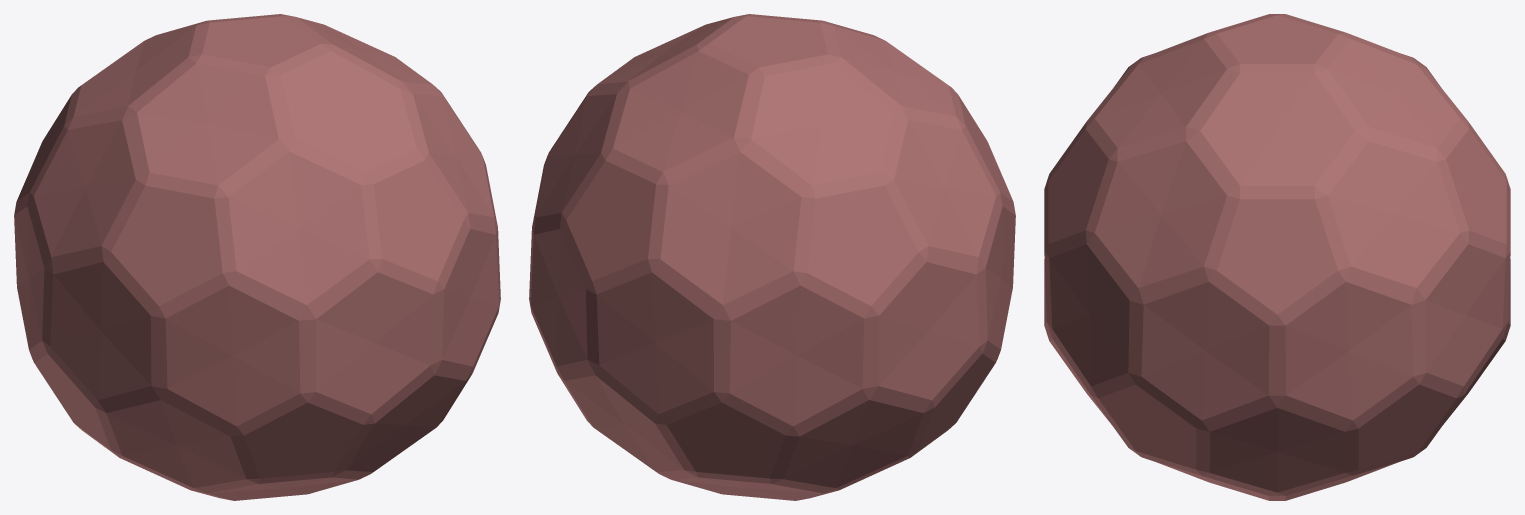
File: Crystal_old.fbx
3 views of the same model, side by side, from view 1: azimuth 30°, elevation 25°; view 2: azimuth 150°, elevation 25°; view 3: azimuth 270°, elevation 25° (orthographic).
Visible parts, largest first — view 1: Out; view 2: Out; view 3: Out.
Boxes of the visible parts, x1,y1,x2,y2 form: Out: (14, 14, 500, 500); Out: (529, 14, 1015, 500); Out: (1044, 14, 1510, 500).
Size of the model in its own units: 2.26 by 2.22 by 2.18.
